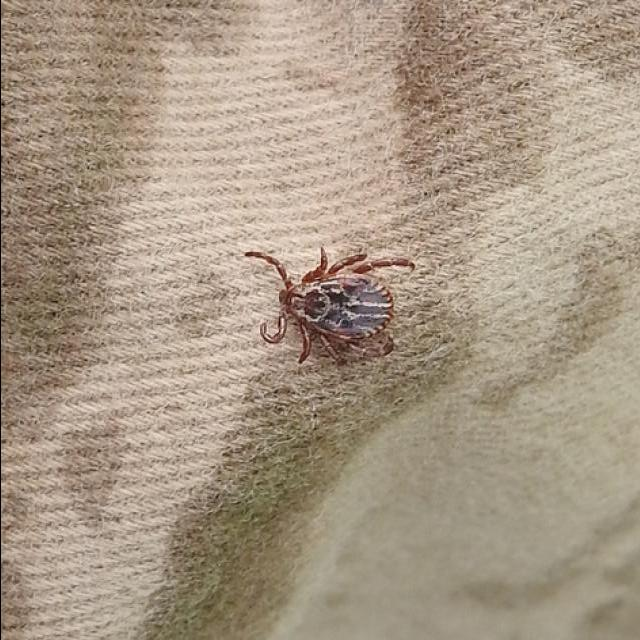Dermacentor Reticulatus-M: (243, 250, 412, 365)
